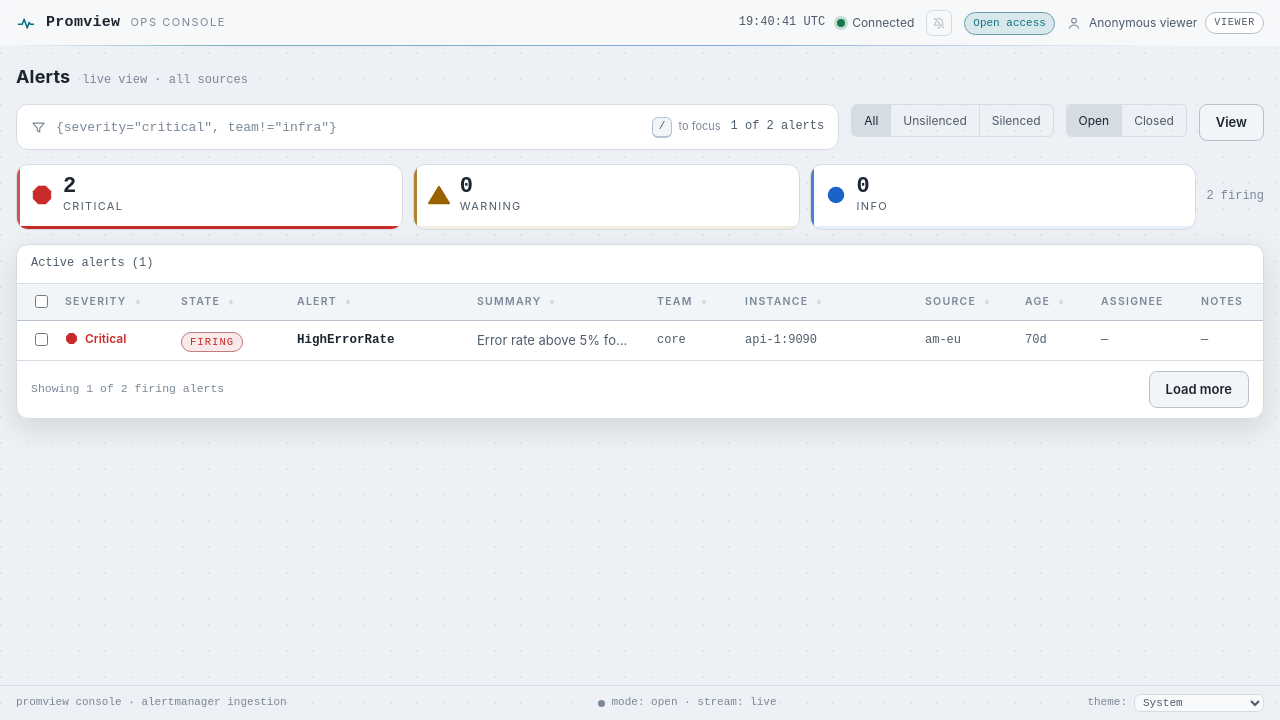
Test case: App › pages with the server cursor and appends idempotently
Expected: the text "HighErrorRate" is shown, [283,320,463,360]
Expected: the text "Connected" is shown, [852,14,914,32]
Step 1. Click the button "Load more" → (1199, 389), box [1149,371,1249,408]
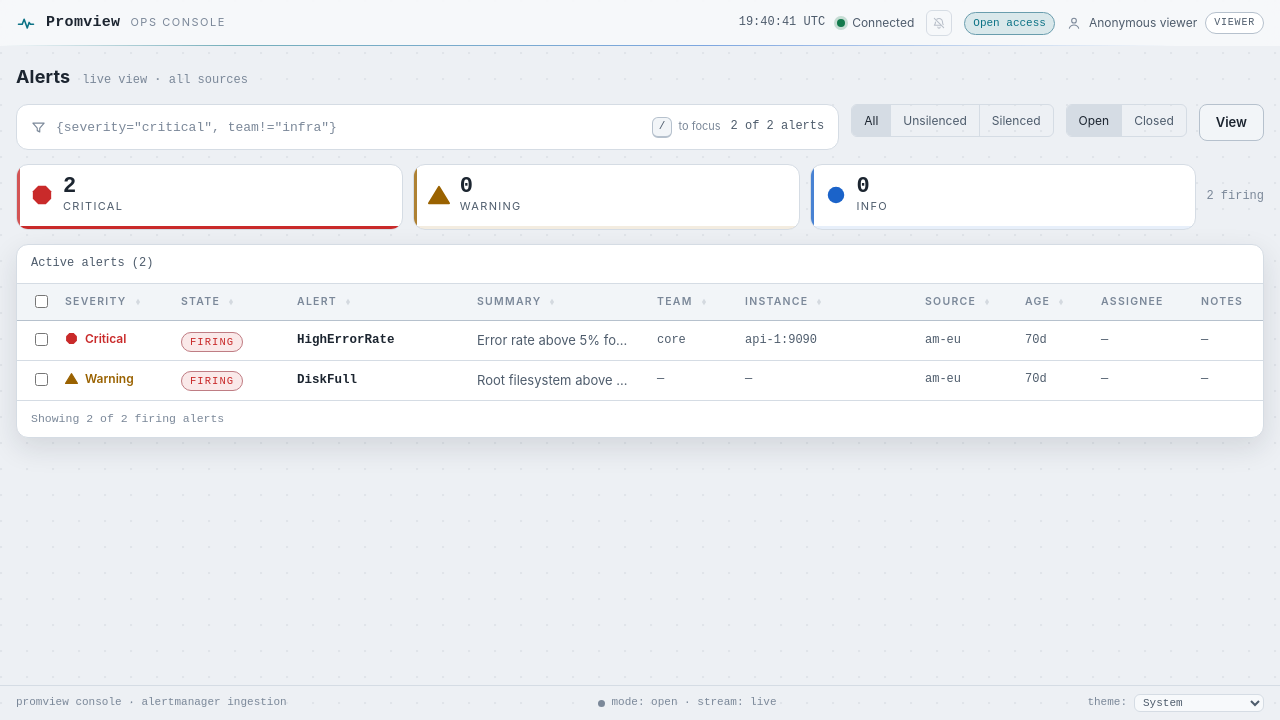
Result: the text "DiskFull" is shown at [283,360,463,400]
Result: the text "HighErrorRate" is shown once at [283,320,463,360]
Result: the text "Showing 2 of 2 firing alerts" is shown at [31,412,224,424]
